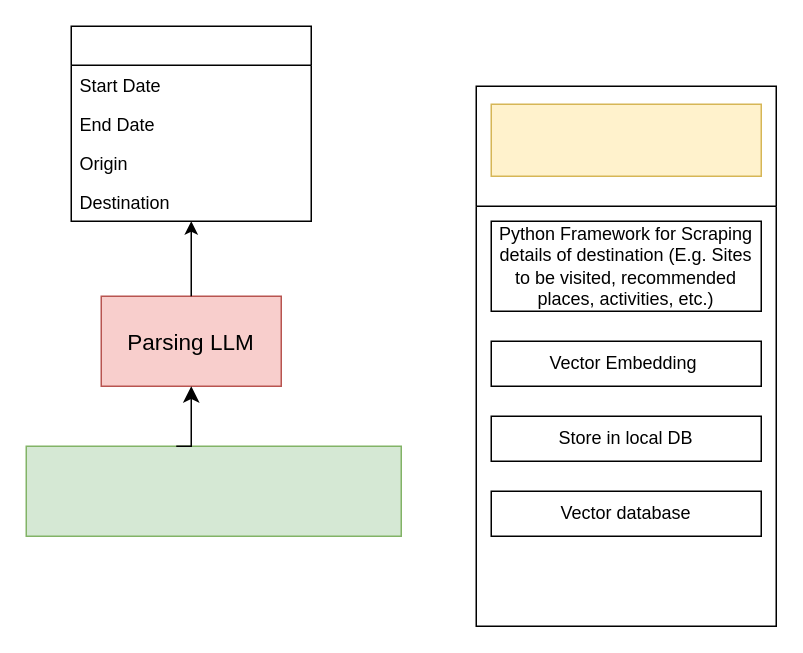
The diagram is 803 pixels wide and 653 high, and some of its shapes have lost their labels. The box of each missing label's shape, as (x1, y1, x2, y2) in pixels:
Destination Details: (490, 103, 761, 176)
Trip data: (70, 25, 311, 221)
User Input/Travel requirements: (25, 445, 401, 536)
